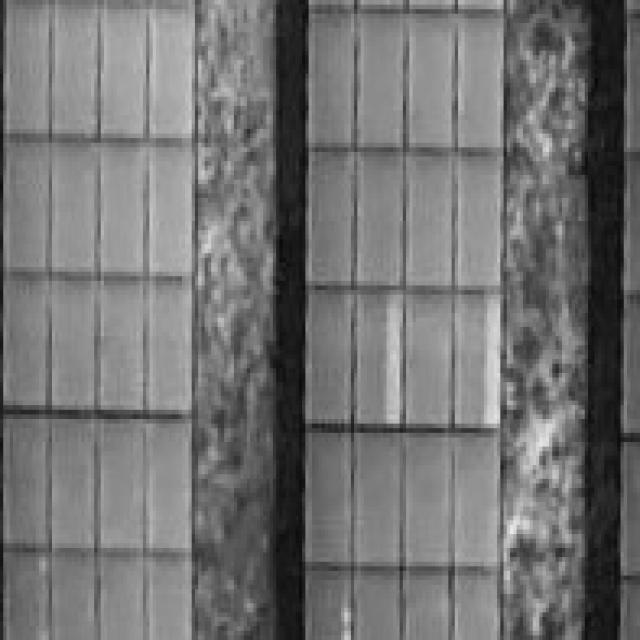Line Fault: (382, 291, 401, 425)
Panel: (306, 0, 507, 640), (1, 2, 197, 638), (482, 287, 504, 426)
